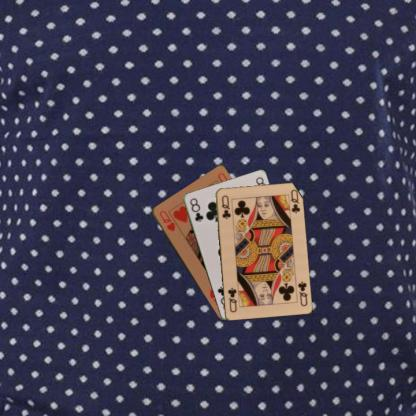8c: (187, 195, 205, 223)
Qc: (294, 278, 309, 308), (218, 193, 232, 220)
Qh: (157, 208, 176, 233)
